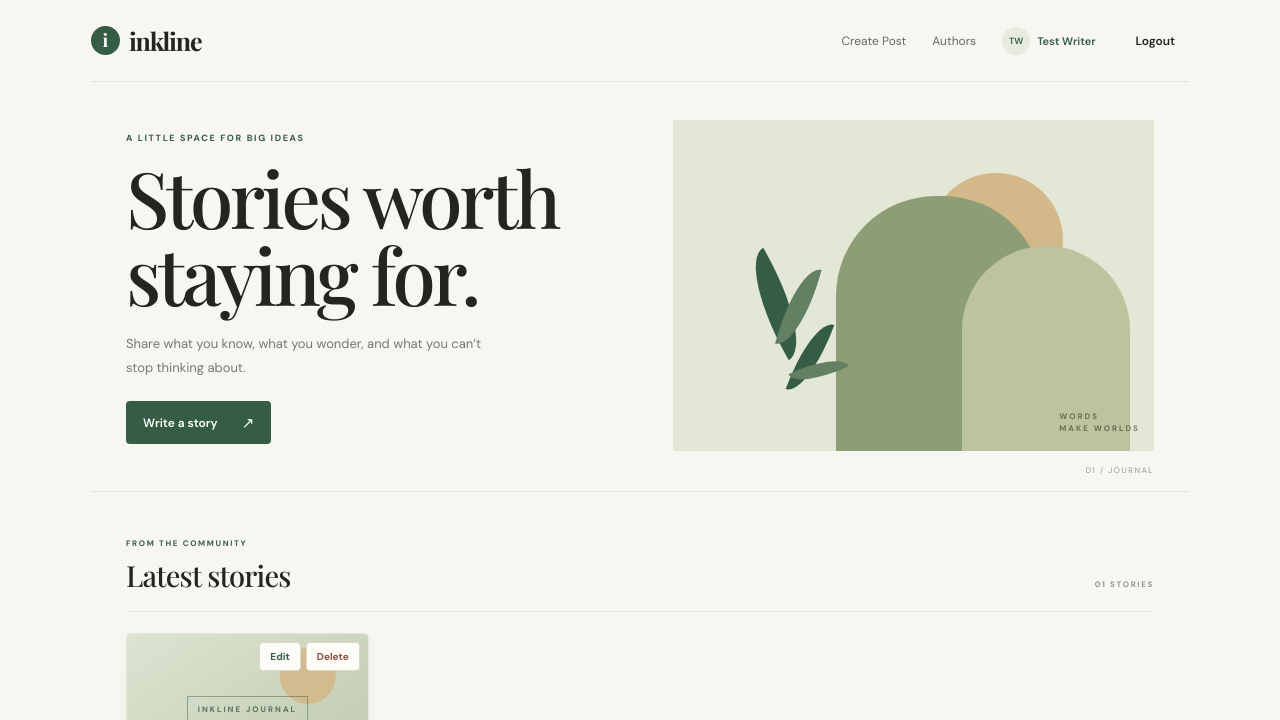
Test case: confirms post deletion and removes the story from the feed
Click the button with aria-label "Delete story: A story to remove" at [333, 656], box [306,642,360,671]
(page scrolled)
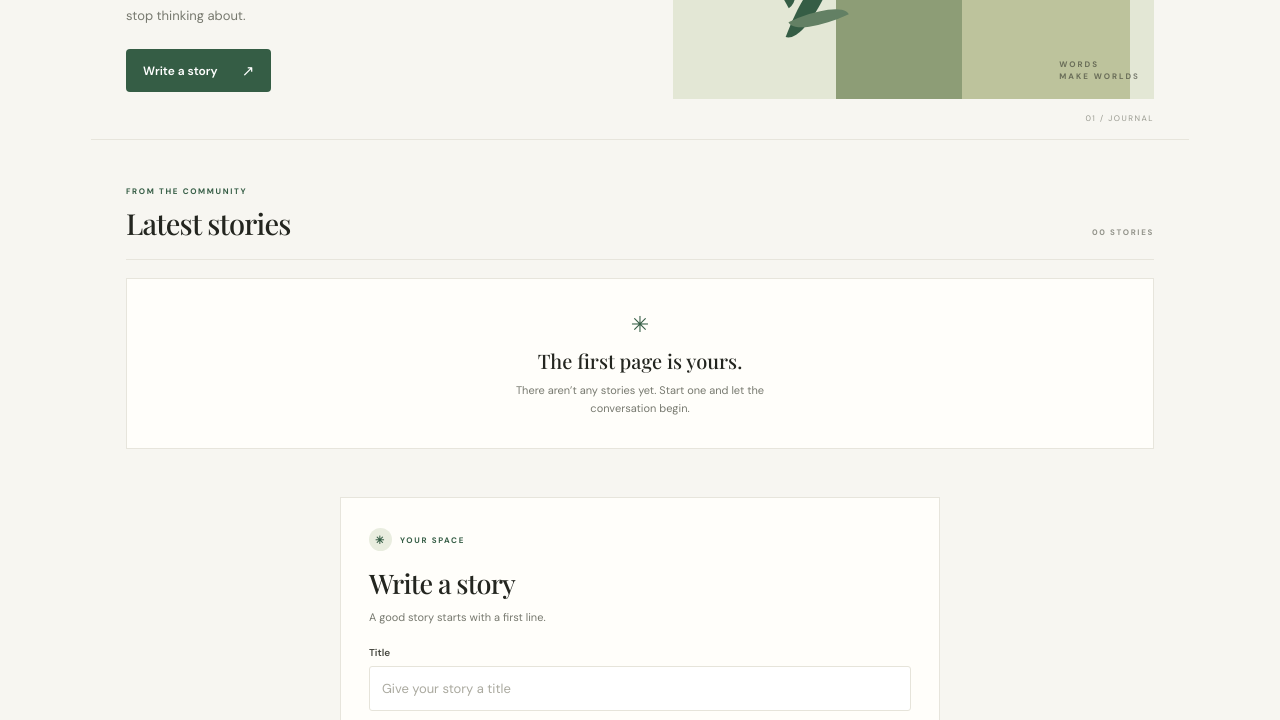
Result: the heading "The first page is yours." is shown at [538,347,742,374]
